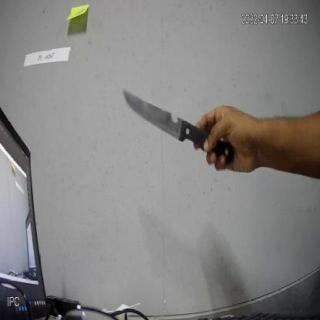knife: (117, 81, 235, 162)
